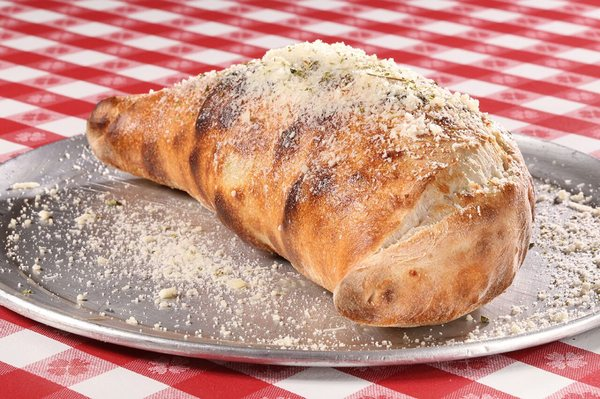curry: (1, 0, 581, 388)
salad: (84, 40, 536, 331)
